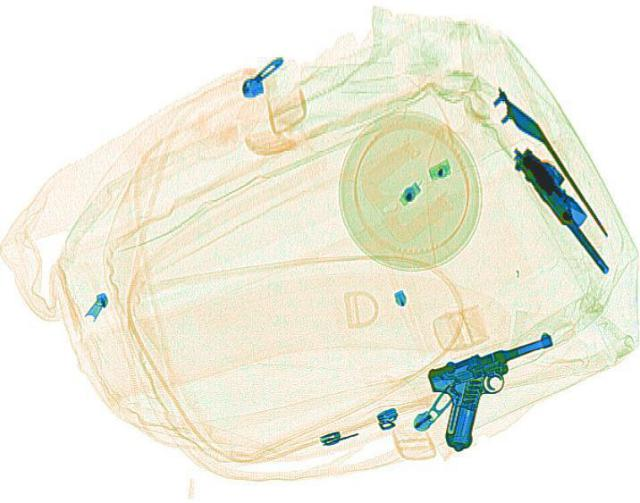Gun: (403, 329, 593, 452), (500, 137, 626, 276)
